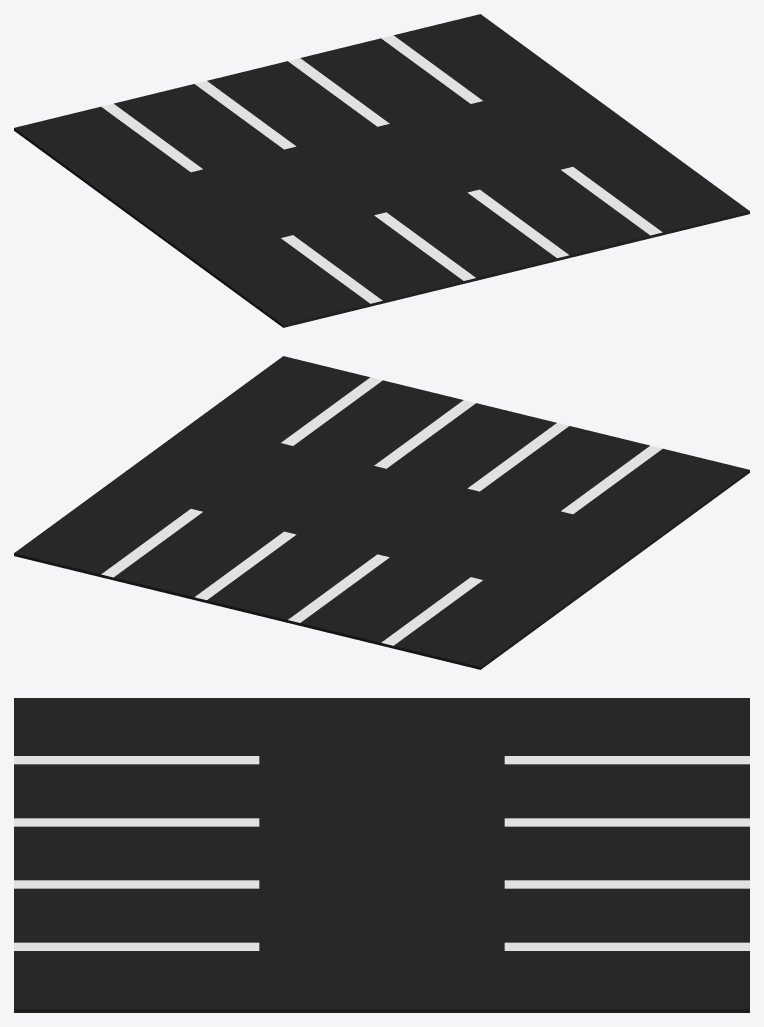
The model's file is Carpark.fbx.
3 views of the same model, one above another, from view 1: azimuth 30°, elevation 25°; view 2: azimuth 150°, elevation 25°; view 3: azimuth 270°, elevation 25° (orthographic). The views are drawn at different scales.
Parts seen in each view (by area): view 1: Plane.004; view 2: Plane.004; view 3: Plane.004.
Boxes of the visible parts, bbox=[...] form: Plane.004: bbox=[14, 14, 749, 327]; Plane.004: bbox=[14, 356, 749, 669]; Plane.004: bbox=[14, 698, 749, 1012].
Size of the model in its own units: 3.48 by 0.0204 by 3.48.
